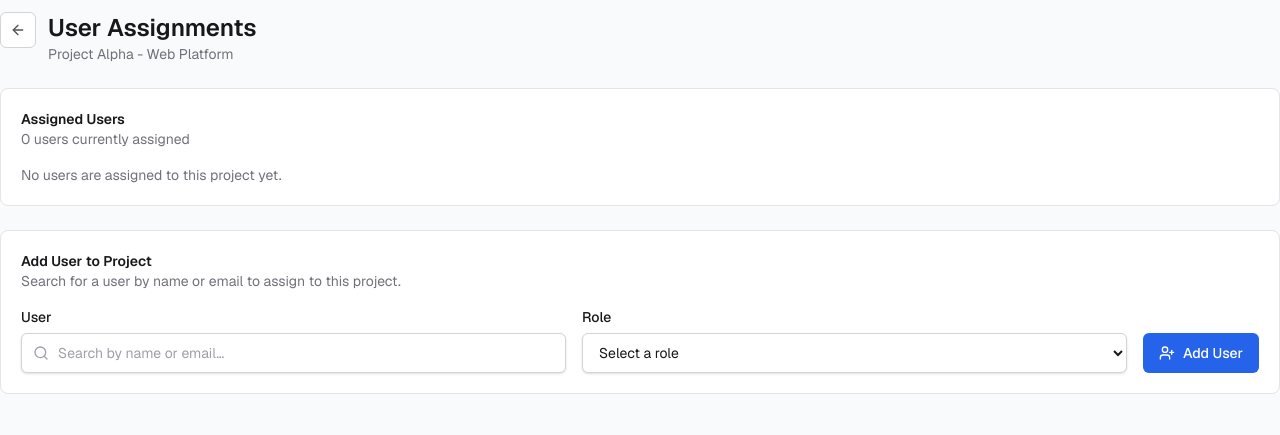
Test: ProjectAssignmentsPanel › shows a validation error when submitting without selecting a user
The image size is (1280, 435).
Select "Senior Developer" in the dropdown labelled "Role" at coordinates (854, 353), box [582,333,1127,373]
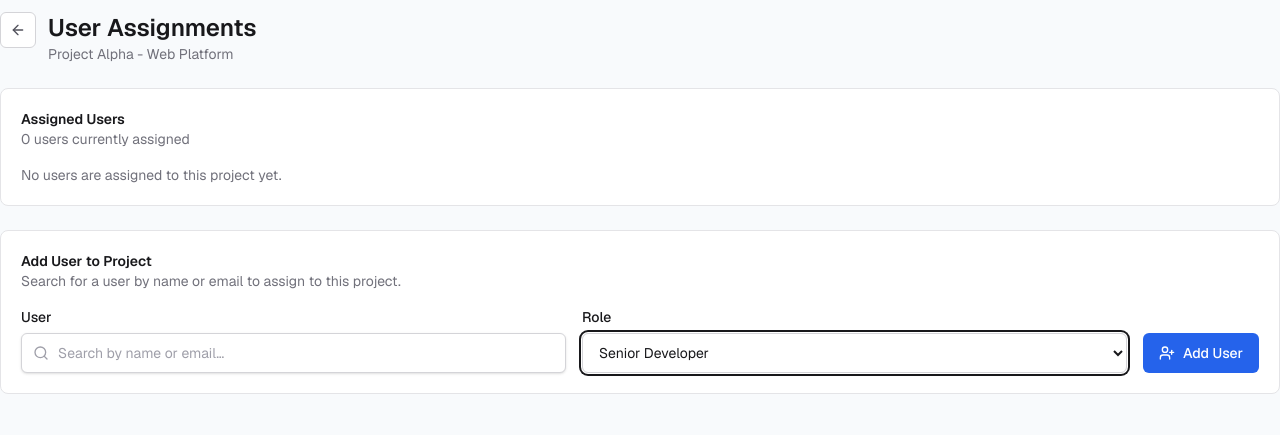
Click the button "Add User" at coordinates (1201, 353), box [1143,333,1259,373]
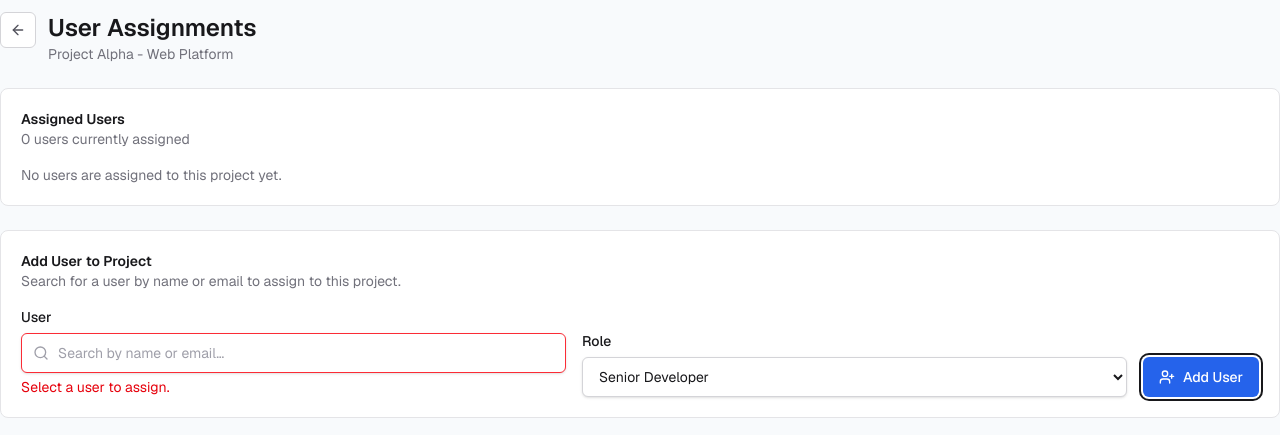
Check: the text "Select a user to assign." is shown, box [21,378,170,396]
